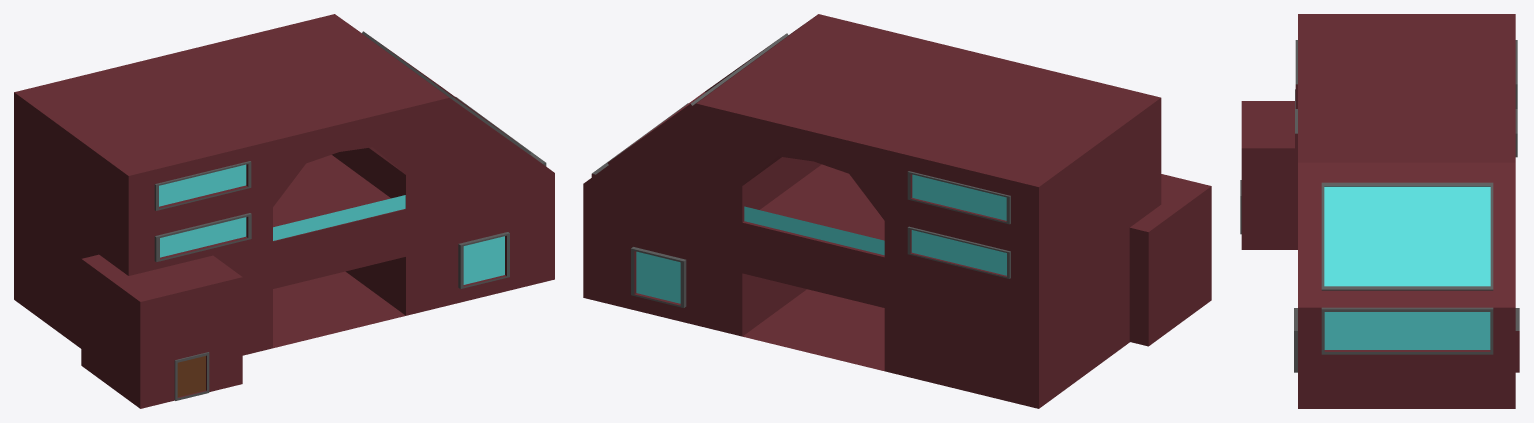
Rendered from Periode4Huis.fbx.
3 renders of one model, left to right at view 1: azimuth 30°, elevation 25°; view 2: azimuth 150°, elevation 25°; view 3: azimuth 270°, elevation 25°, orthographic. The views are drawn at different scales.
Visible parts, largest first — view 1: Cube, Cube.001, Plane; view 2: Cube, Cube.001, Plane.001; view 3: Cube, Cube.001.
Boxes of the visible parts, box(x1,y1,x2,y2) form: Cube: box(14, 14, 554, 355); Cube.001: box(81, 254, 242, 408); Plane: box(273, 195, 405, 240); Cube: box(583, 14, 1161, 408); Cube.001: box(1129, 174, 1211, 346); Plane.001: box(744, 206, 884, 255); Cube: box(1294, 14, 1519, 408); Cube.001: box(1240, 101, 1297, 249).
Size of the model in its own units: 3754 by 1662 by 2134.
